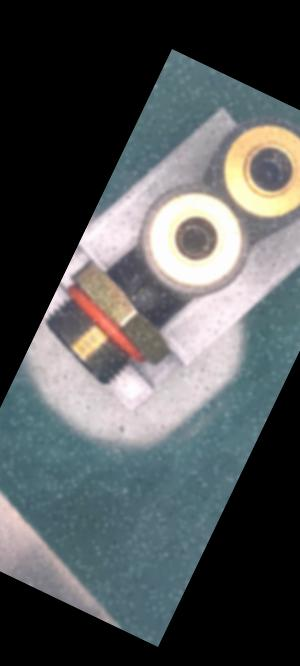craze: (126, 275, 150, 308)
